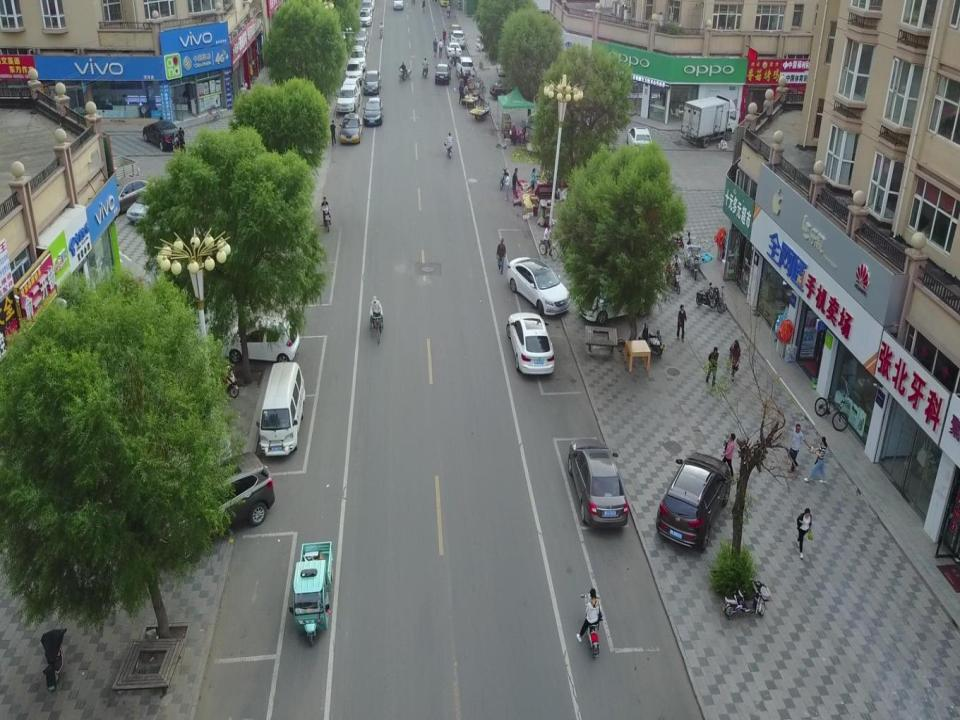car: (656, 452, 730, 552), (568, 439, 628, 528), (507, 257, 570, 314), (579, 278, 655, 324), (506, 312, 554, 376), (102, 176, 161, 217), (126, 185, 172, 224), (142, 120, 182, 152), (626, 126, 652, 154), (339, 113, 362, 143), (490, 80, 524, 98), (476, 31, 504, 51), (363, 98, 383, 125), (362, 71, 381, 95), (496, 53, 515, 77), (352, 27, 368, 49), (350, 38, 367, 57), (446, 42, 462, 58)
truck: (680, 95, 742, 148)
van: (143, 451, 275, 562), (255, 362, 305, 456), (222, 309, 300, 366), (337, 77, 360, 113), (344, 60, 363, 86), (348, 45, 366, 70), (456, 56, 474, 80), (435, 63, 452, 85), (450, 30, 466, 50), (357, 7, 372, 26), (449, 23, 462, 40), (360, 0, 374, 11)
